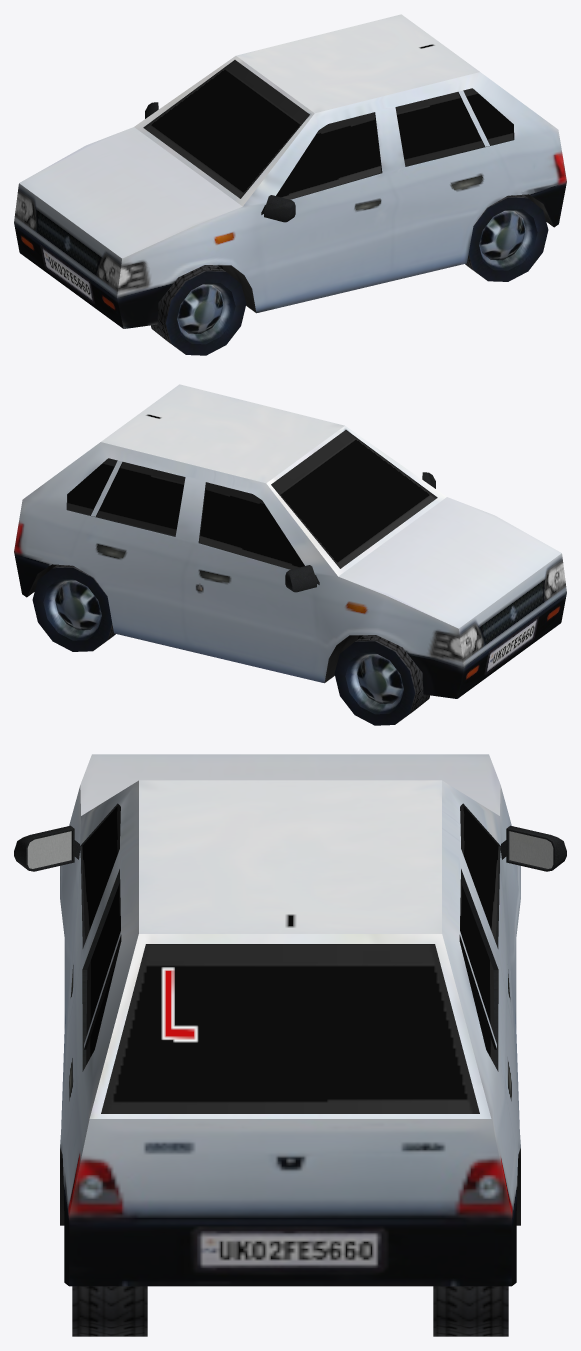
File: ps1-style_maruti_800_-_game_ready.glb
3 renders of one model, top to bottom at view 1: azimuth 30°, elevation 25°; view 2: azimuth 150°, elevation 25°; view 3: azimuth 270°, elevation 25°, orthographic. The views are drawn at different scales.
Visible parts, largest first — view 1: chasis, window, tire_fl, tire_bl, mirror; view 2: chasis, window, tire_fr, tire_br, mirror; view 3: chasis, window, mirror, tire_bl, tire_br.
Boxes of the visible parts, left/top/right/bottom form: chasis: left=14, top=14, right=566, bottom=328; window: left=144, top=60, right=513, bottom=199; tire_fl: left=150, top=265, right=246, bottom=355; tire_bl: left=465, top=194, right=548, bottom=281; mirror: left=145, top=102, right=295, bottom=222; chasis: left=14, top=384, right=566, bottom=698; window: left=67, top=430, right=436, bottom=569; tire_fr: left=334, top=635, right=430, bottom=725; tire_br: left=32, top=564, right=115, bottom=651; mirror: left=285, top=472, right=435, bottom=592; chasis: left=60, top=754, right=520, bottom=1286; window: left=82, top=804, right=498, bottom=1113; mirror: left=14, top=825, right=566, bottom=871; tire_bl: left=72, top=1286, right=147, bottom=1336; tire_br: left=433, top=1286, right=508, bottom=1336.
Bounding box in the file's own units: 2.75 × 1.18 × 1.54.
Materials: 8 (8 with a texture image).
